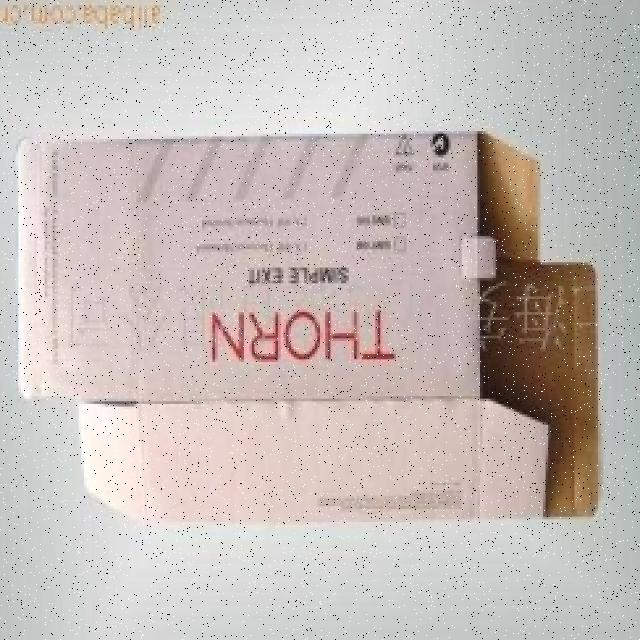box: (11, 118, 603, 523)
